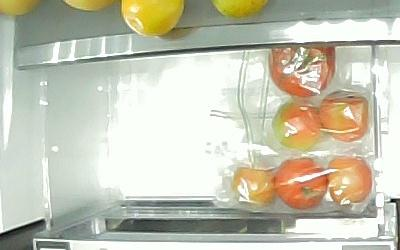tomato_vinyl: (266, 48, 336, 97), (272, 155, 330, 209), (271, 97, 325, 150), (317, 89, 369, 142), (325, 153, 372, 205), (230, 165, 278, 207)
